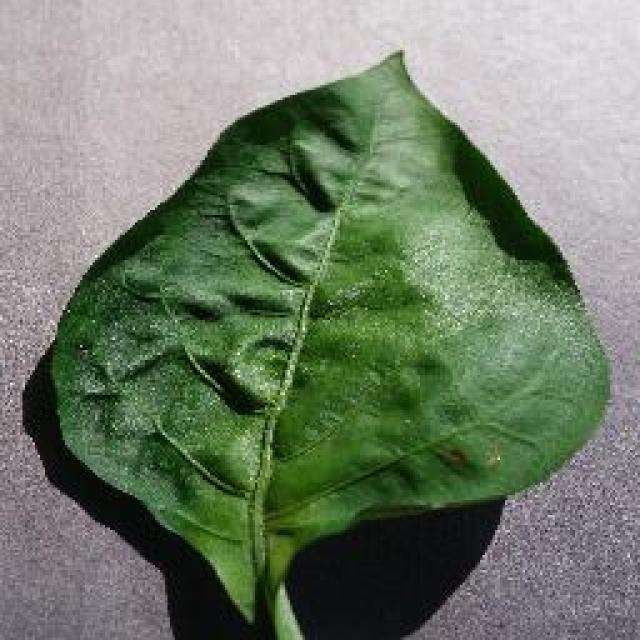Chilli_Healthy: (45, 45, 613, 637)
